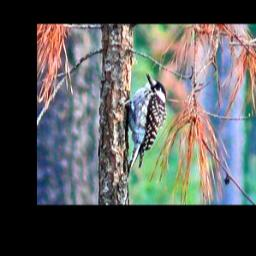Woodpecker: (112, 68, 174, 180)
